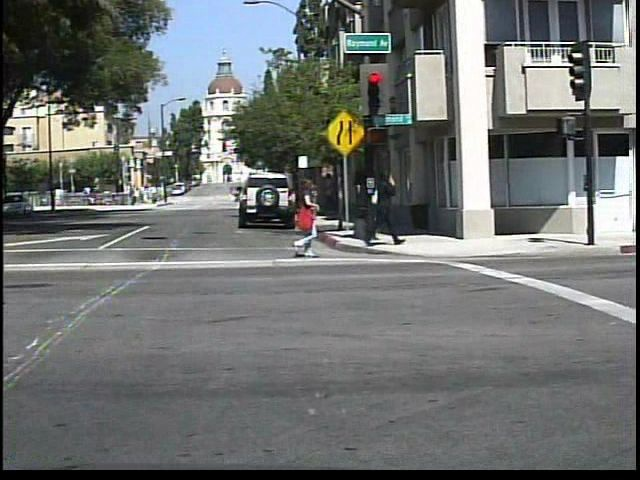person: (365, 162, 409, 248), (291, 172, 329, 259)
